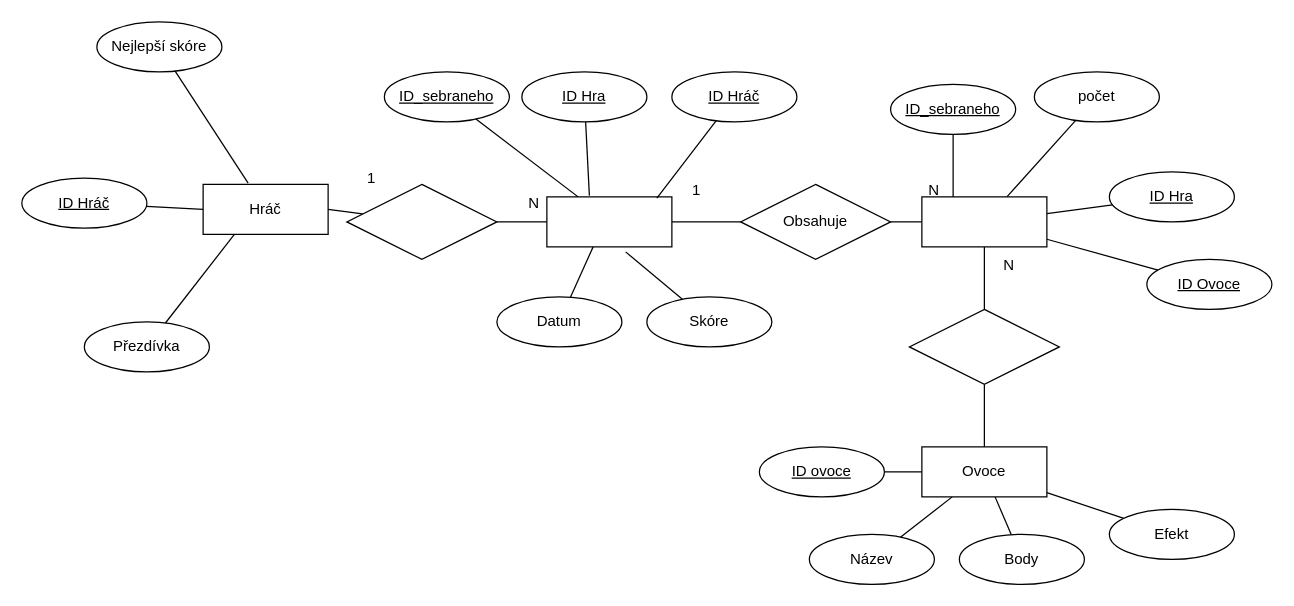
Image size: 1294x606. Some labels were removed from this diagram. Here are the shapes that lost their labels. From the top down, the centre of each, then its label:
At (x=421, y=221): "Interaguje s".
At (x=609, y=221): "Hra".
At (x=984, y=221): "Sebrane_ovoce".
At (x=983, y=346): "Je sebráno".
